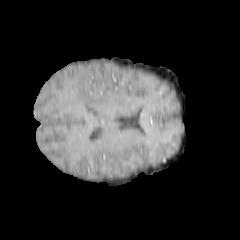glioma: (75, 84, 114, 108)
